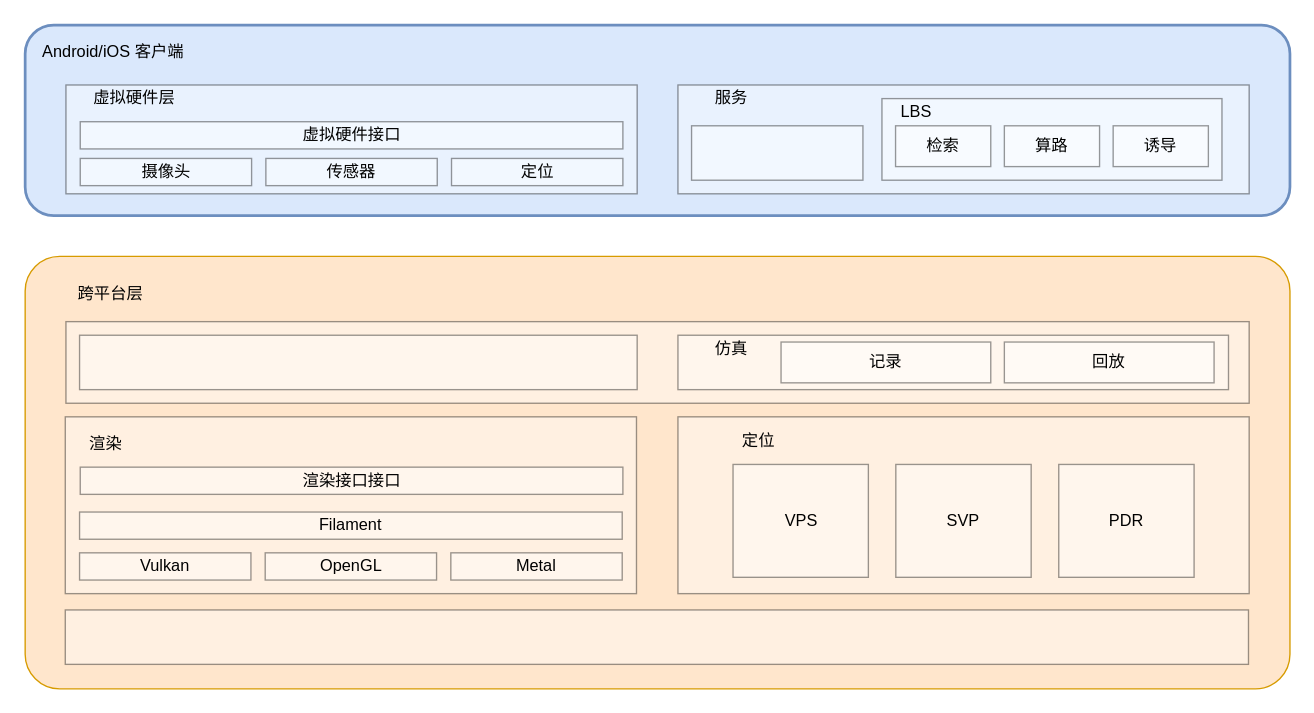
The diagram is 1314 pixels wide and 713 high, and some of its shapes have lost their labels. The centre of each missing label's shape, as x and y in pixels:
"AR 业务" belongs at point (357, 362).
"CommonLib" belongs at point (656, 636).
"云控" belongs at point (776, 152).
